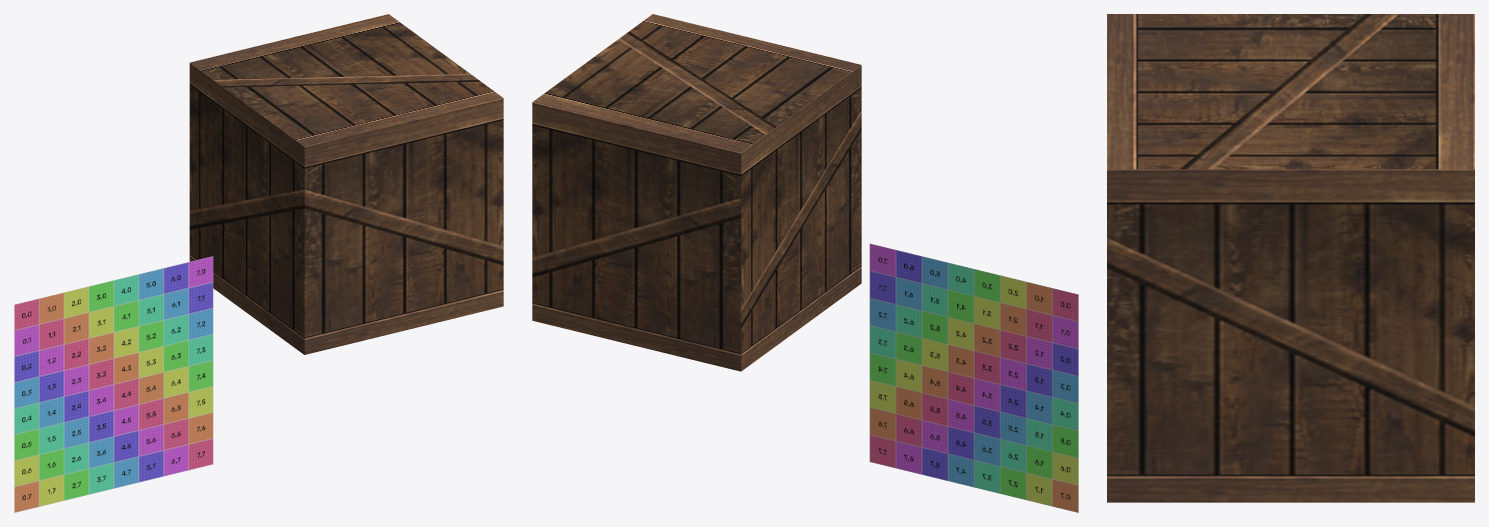
Rendered from multiMaterial.obj.
3 views of the same model, side by side, from view 1: azimuth 30°, elevation 25°; view 2: azimuth 150°, elevation 25°; view 3: azimuth 270°, elevation 25° (orthographic). The views are drawn at different scales.
Parts seen in each view (by area): view 1: Cube, Plane; view 2: Cube, Plane; view 3: Cube.
Part boxes in pixels (x1,y1,x2,y2): Cube: [189, 14, 503, 354]; Plane: [14, 256, 213, 512]; Cube: [532, 14, 861, 371]; Plane: [869, 243, 1078, 512]; Cube: [1107, 14, 1474, 502].
Bounding box in the file's own units: 4.5 × 3.23 × 2.
